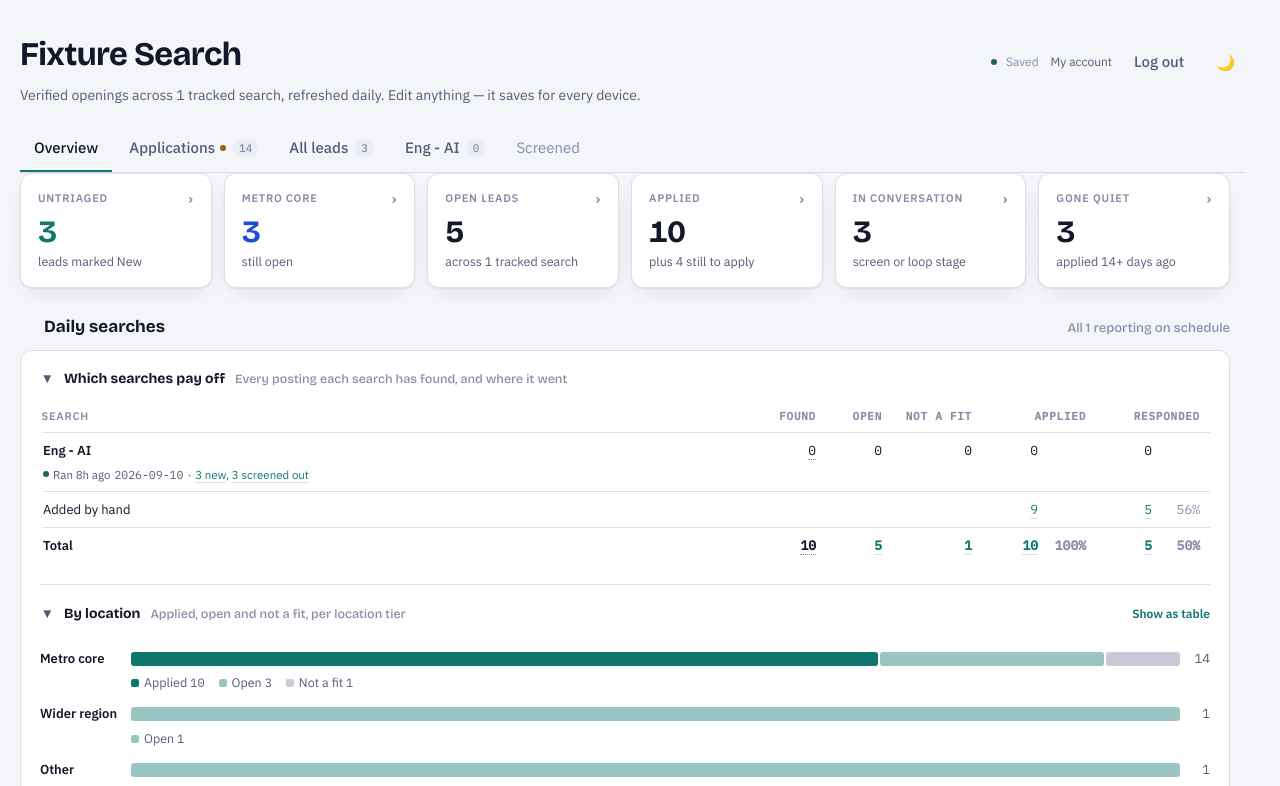
Test case: the Locations section › won't save both lists empty, and says so beside the searched list without sending
expect the heading "Fixture Search" is shown: met, box x1=20 y1=34 x2=241 y2=74
Click the button "My account" at coordinates (1081, 62), box x1=1051 y1=53 x2=1112 y2=71
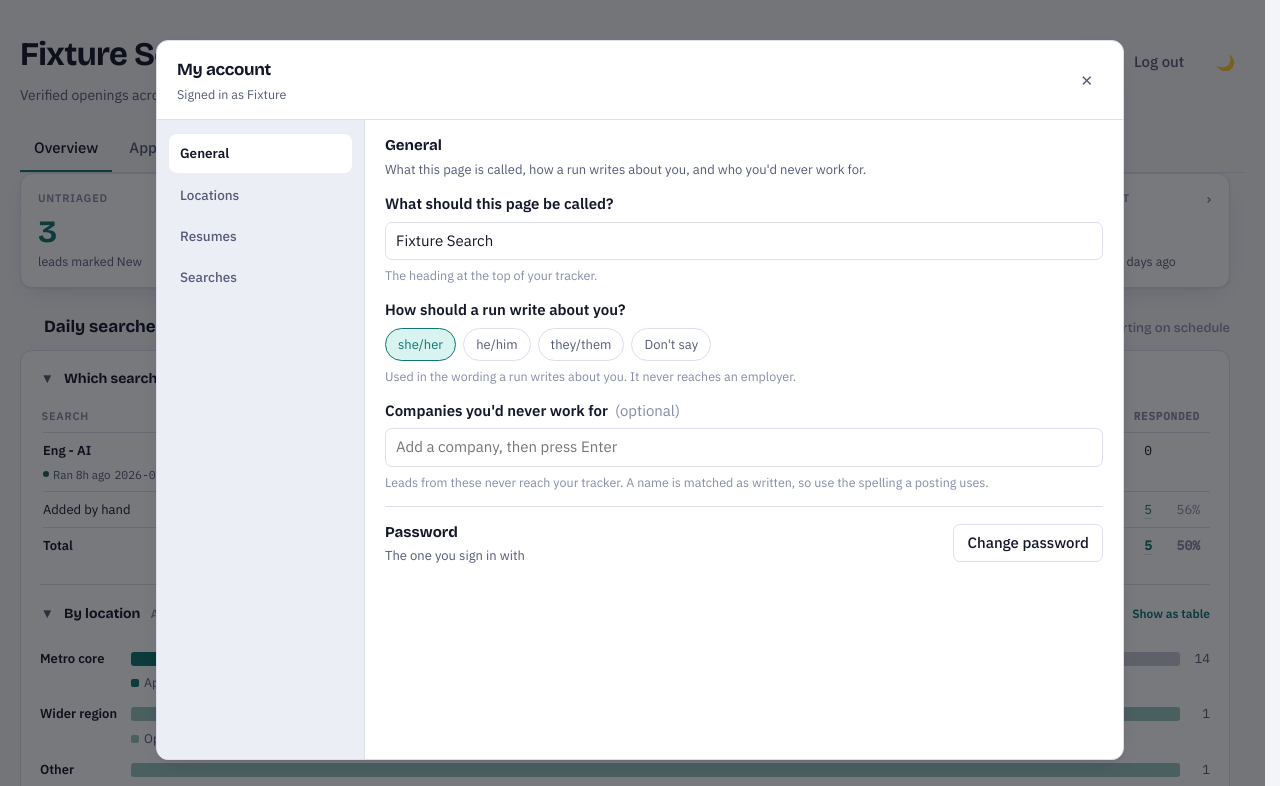
Click the button "Locations" at coordinates (260, 195), box x1=169 y1=176 x2=352 y2=214
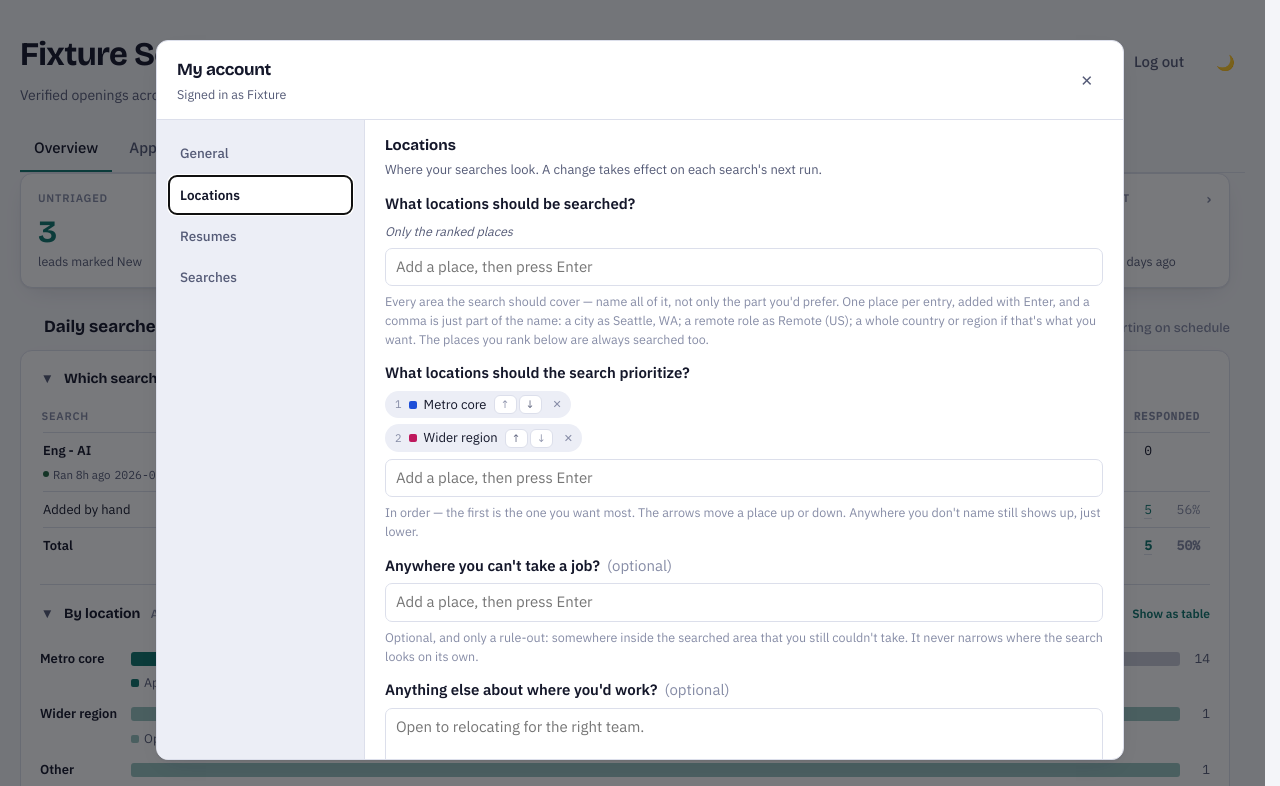
Click the 2nd button "✕" at coordinates (557, 404), box x1=549 y1=395 x2=566 y2=414
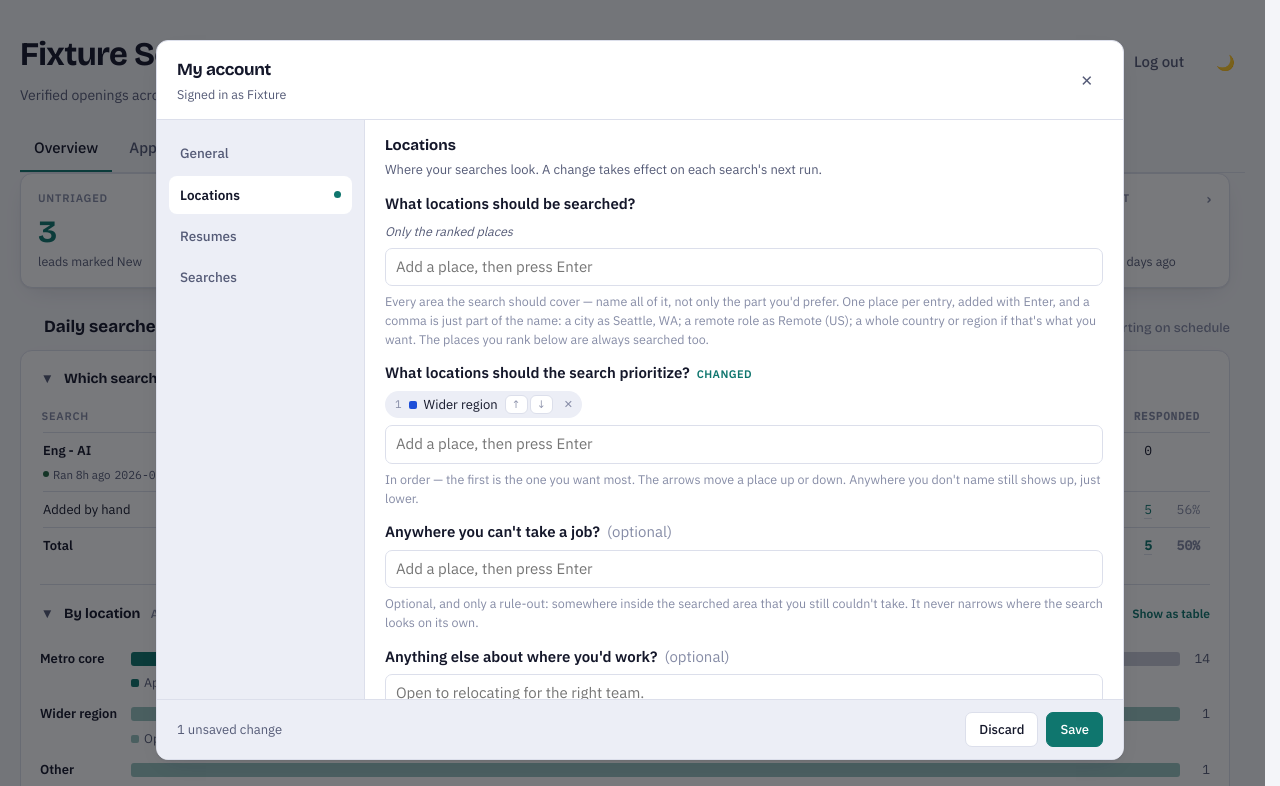
Click the button named "Remove Wider region" at coordinates (568, 404), box x1=560 y1=395 x2=577 y2=414
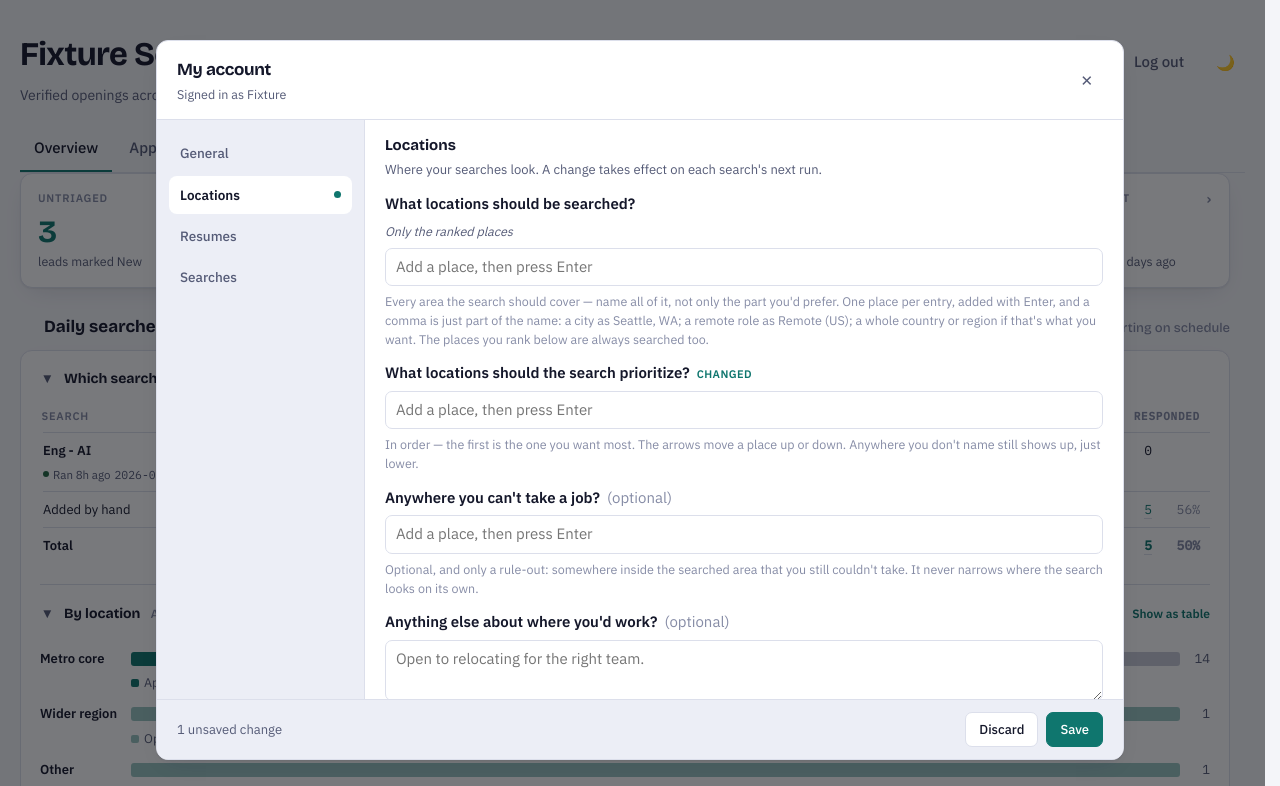
Click the button "Save" at coordinates (1075, 729), box x1=1046 y1=712 x2=1103 y2=747
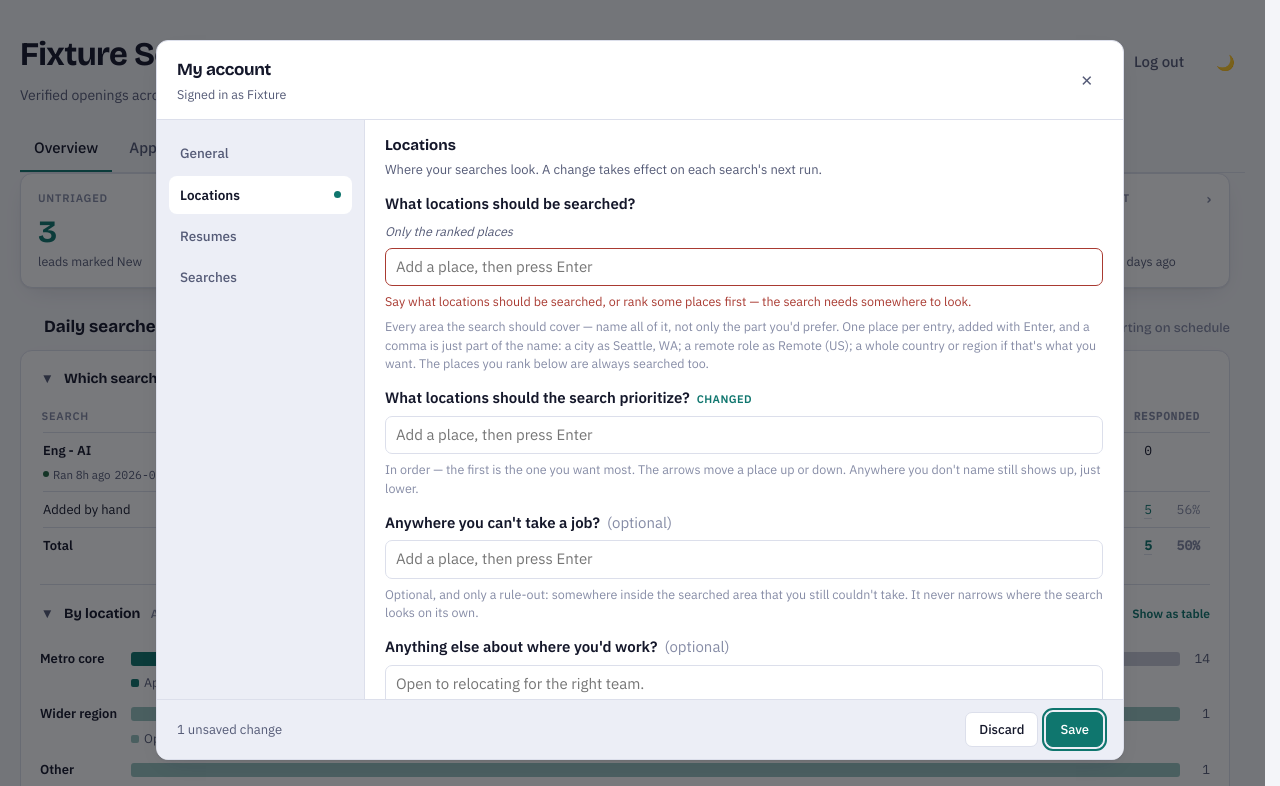
expect the message shows "Say what locations should be searched, or rank some places first": met, box x1=385 y1=293 x2=971 y2=309
